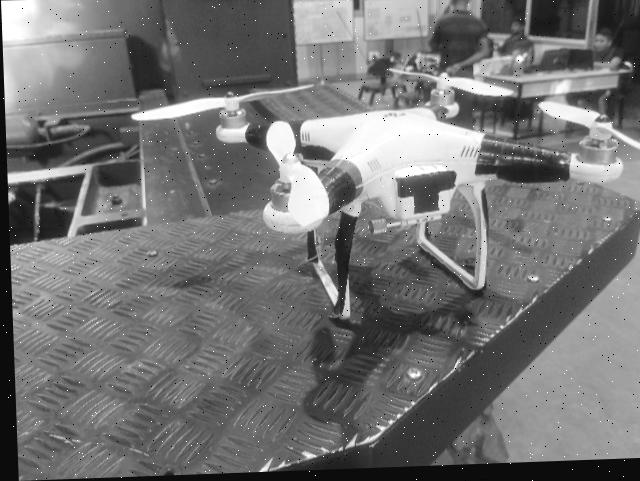drone: (105, 54, 640, 344)
